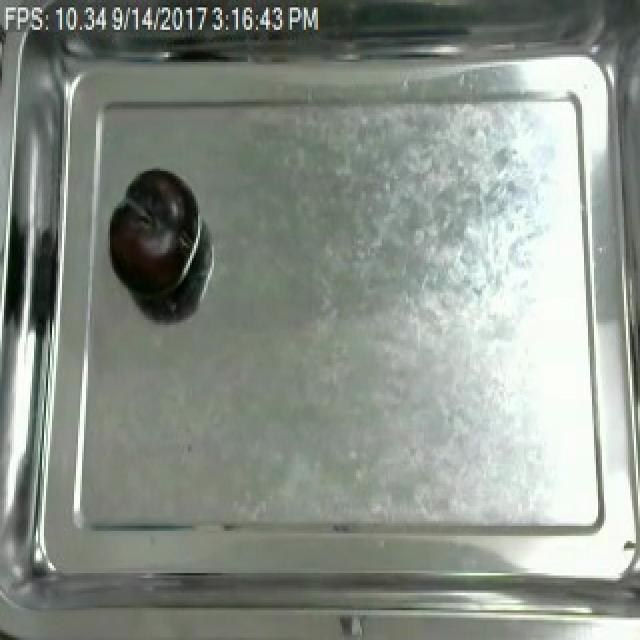Fruit: (102, 166, 200, 300)
